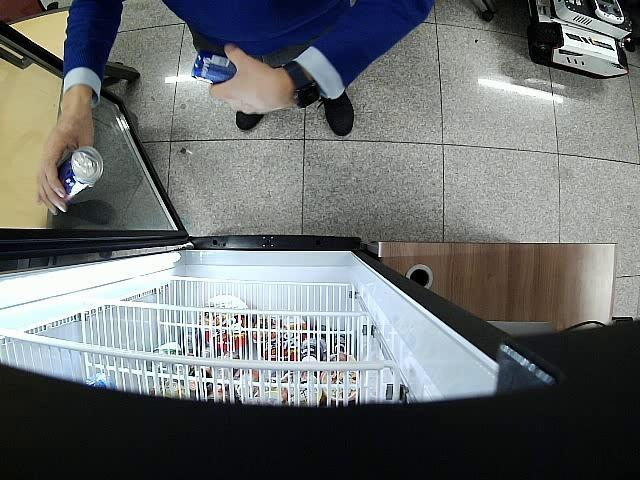16_hot6: (56, 146, 104, 202), (192, 48, 238, 84)
